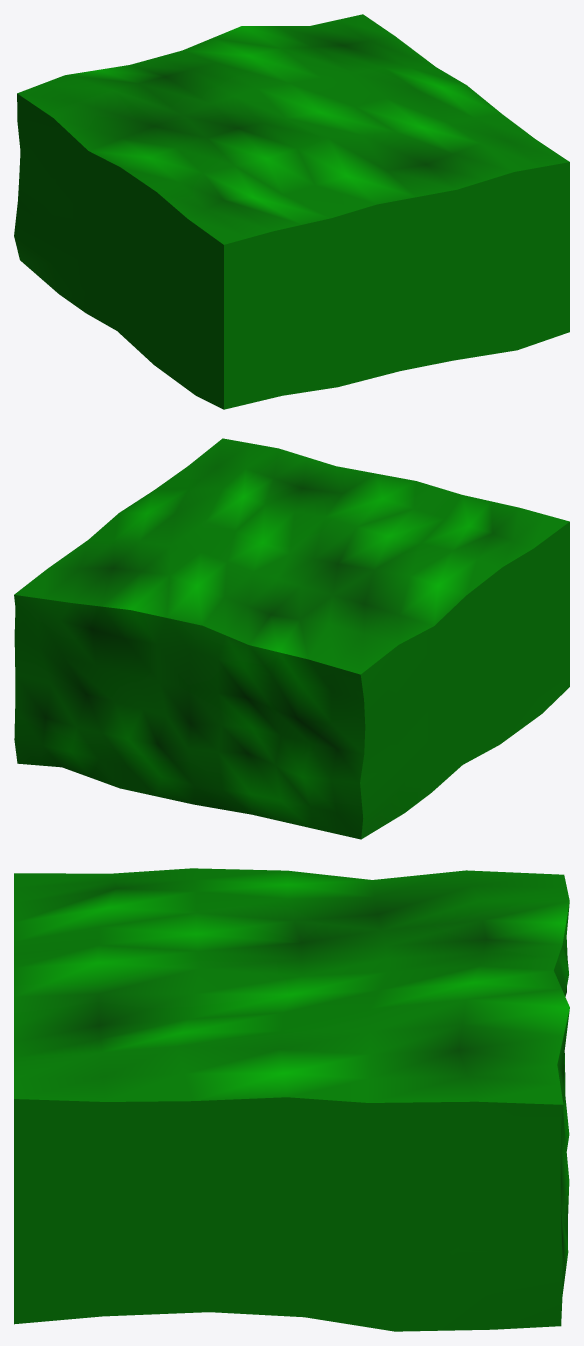
File: Bush1.fbx
3 renders of one model, top to bottom at view 1: azimuth 30°, elevation 25°; view 2: azimuth 150°, elevation 25°; view 3: azimuth 270°, elevation 25°, orthographic. The views are drawn at different scales.
Parts seen in each view (by area): view 1: Bush1; view 2: Bush1; view 3: Bush1.
Part boxes in pixels (x1,y1,x2,y2): Bush1: [14, 14, 569, 409]; Bush1: [14, 438, 569, 839]; Bush1: [14, 868, 569, 1331].
Size of the model in its own units: 389 by 211 by 406.
